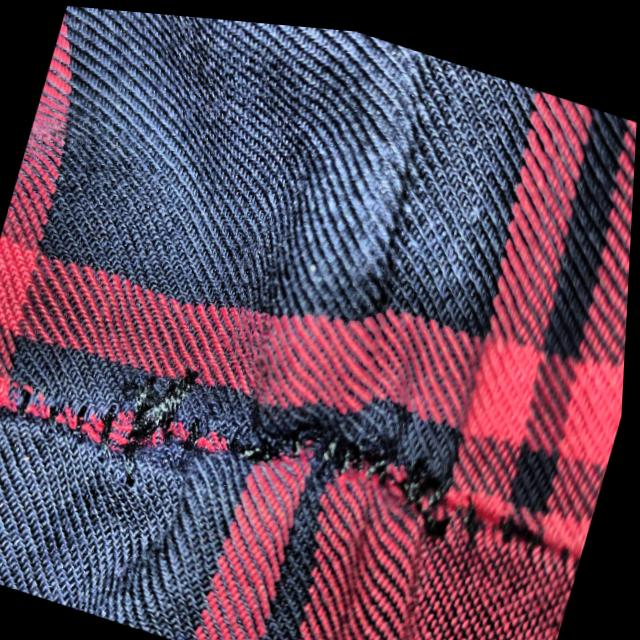Stitch: (2, 276, 544, 616)
